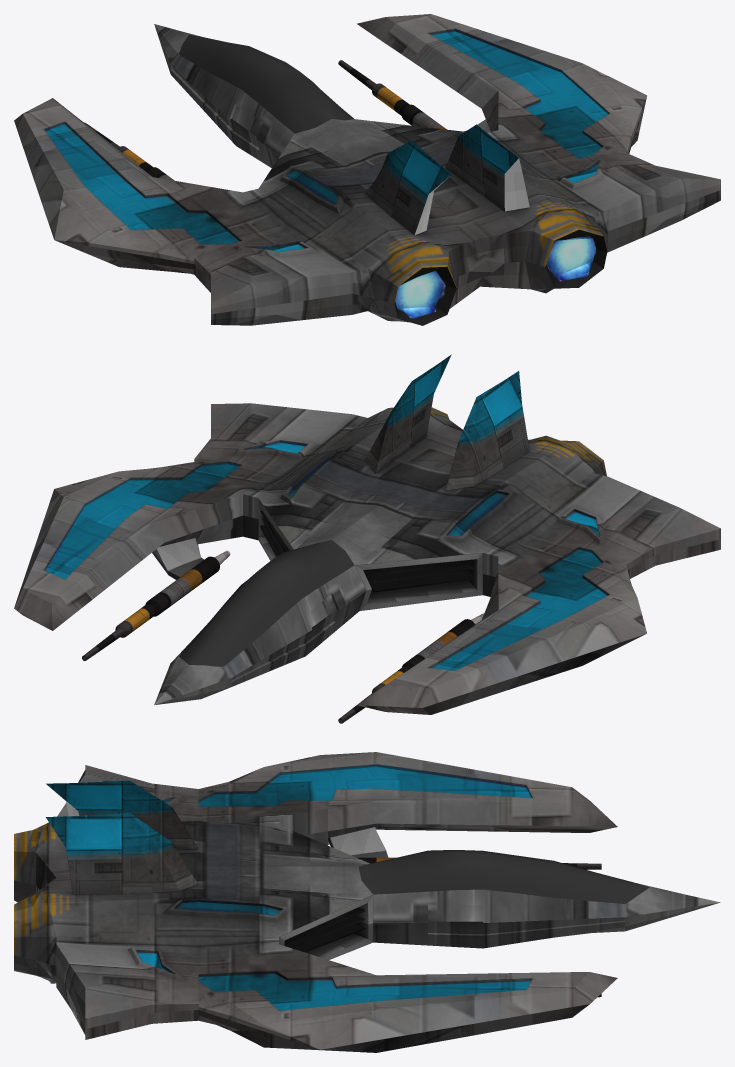
Rendered from mainship.fbx.
The picture shows the model from 3 angles, top to bottom: view 1: azimuth 30°, elevation 25°; view 2: azimuth 150°, elevation 25°; view 3: azimuth 270°, elevation 25°; orthographic projection.
Parts seen in each view (by area): view 1: Box01; view 2: Box01; view 3: Box01.
Part boxes in pixels (bbox=[...]): Box01: bbox=[14, 14, 720, 325]; Box01: bbox=[14, 354, 720, 723]; Box01: bbox=[14, 752, 720, 1052].
Bounding box in the file's own units: 292 × 68.87 × 296.
